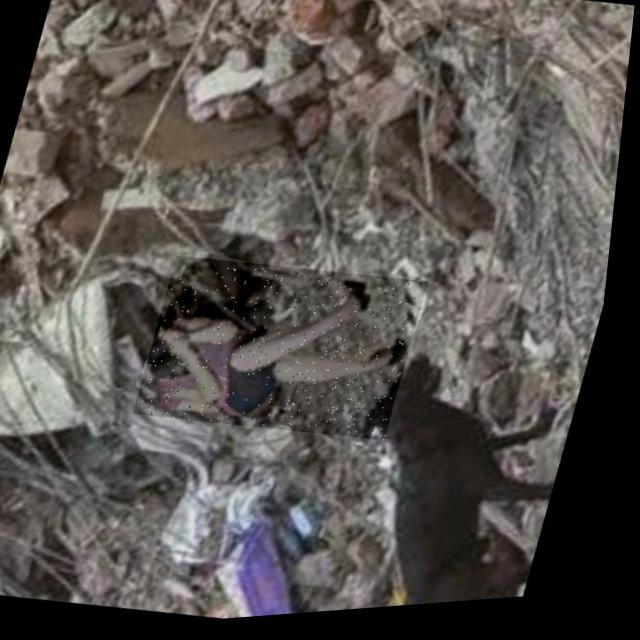Person in Rubble: (138, 242, 439, 461)
